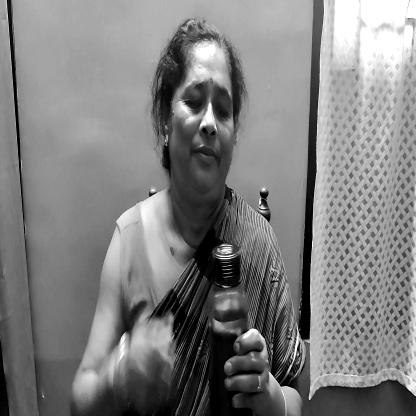Distracted: (158, 27, 245, 215)
